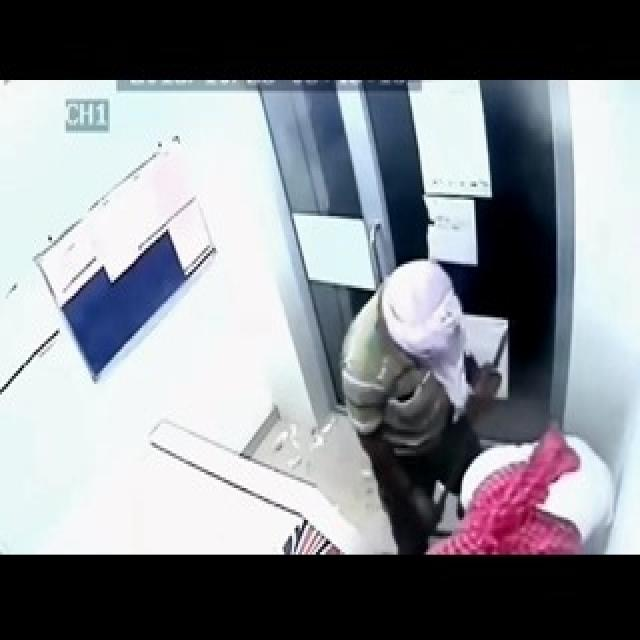thief: (348, 264, 615, 556)
